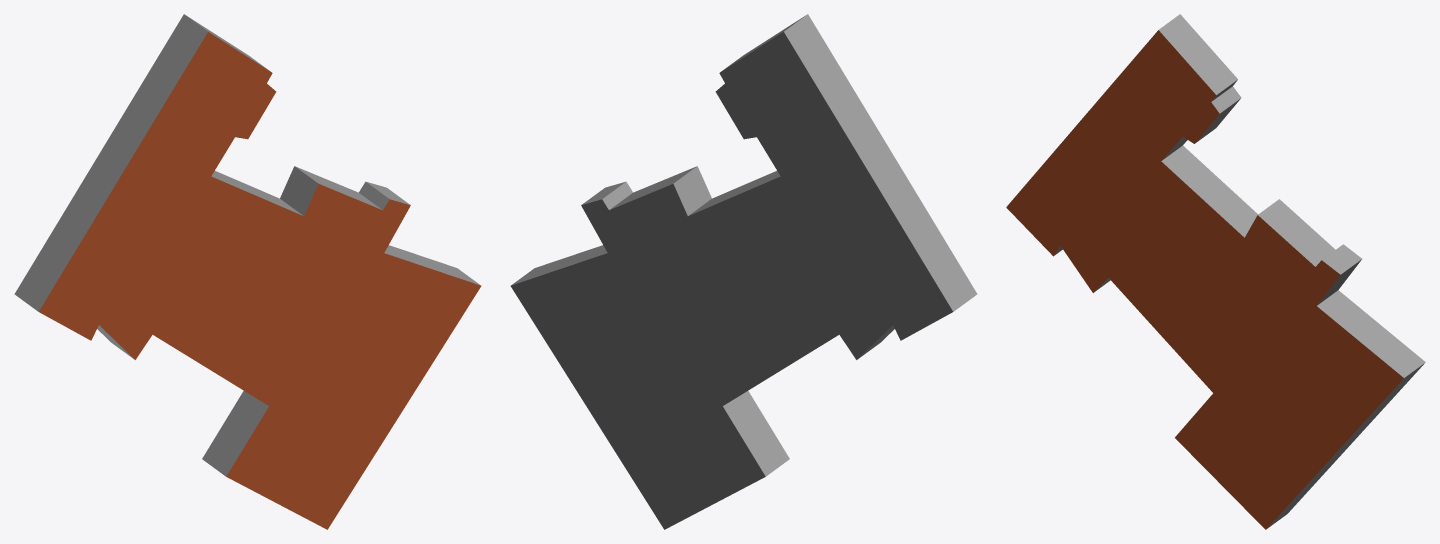
Rendered from construction_0459_assumed_A_Casa_h6m.obj.
3 views of the same model, side by side, from view 1: azimuth 30°, elevation 25°; view 2: azimuth 150°, elevation 25°; view 3: azimuth 330°, elevation 25° (orthographic). The views are drawn at different scales.
Parts seen in each view (by area): view 1: construction_0459_assumed_A_Casa; view 2: construction_0459_assumed_A_Casa; view 3: construction_0459_assumed_A_Casa.
Boxes of the visible parts, x1,y1,x2,y2 form: construction_0459_assumed_A_Casa: [14, 14, 481, 529]; construction_0459_assumed_A_Casa: [510, 14, 977, 529]; construction_0459_assumed_A_Casa: [1006, 14, 1425, 529].
Size of the model in its own units: 63.37 by 72.09 by 6.
